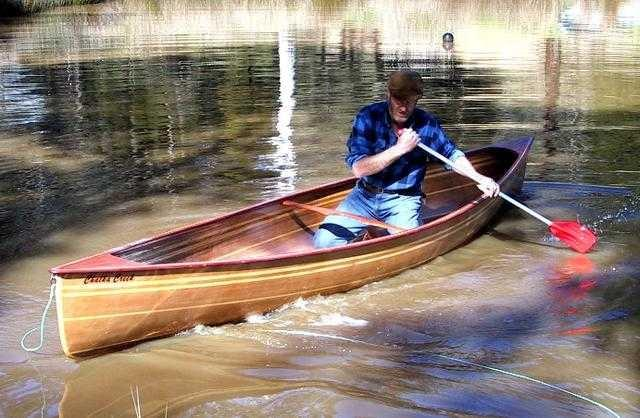kayak: (50, 129, 539, 361)
